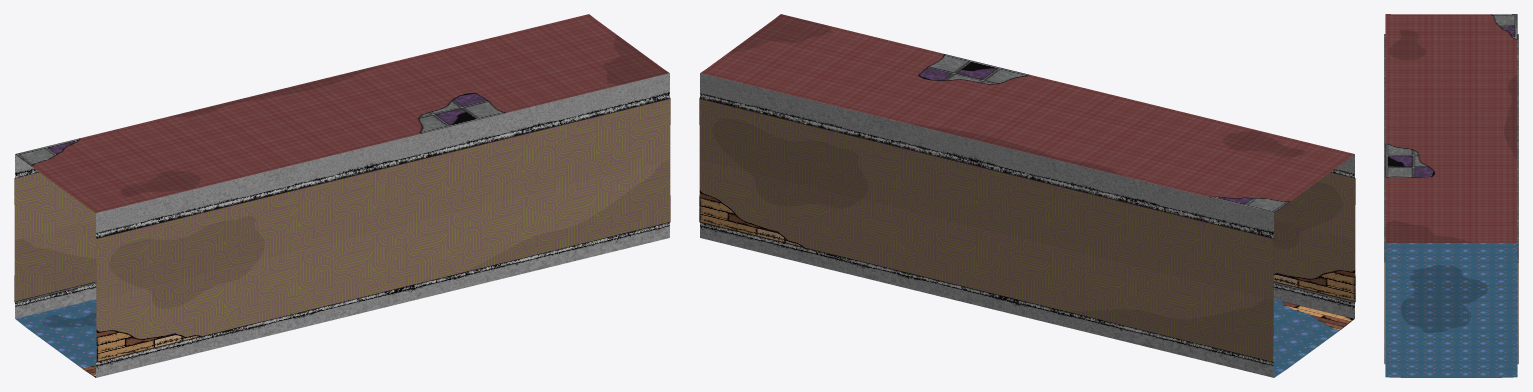
File: corridormodel-final.fbx
3 views of the same model, side by side, from view 1: azimuth 30°, elevation 25°; view 2: azimuth 150°, elevation 25°; view 3: azimuth 270°, elevation 25° (orthographic). The views are drawn at different scales.
Parts seen in each view (by area): view 1: Corridor; view 2: Corridor; view 3: Corridor.
Part boxes in pixels (x1,y1,x2,y2): Corridor: (14, 14, 670, 377); Corridor: (699, 14, 1355, 377); Corridor: (1384, 14, 1518, 377).
Size of the model in its own units: 1000 by 276 by 249.
